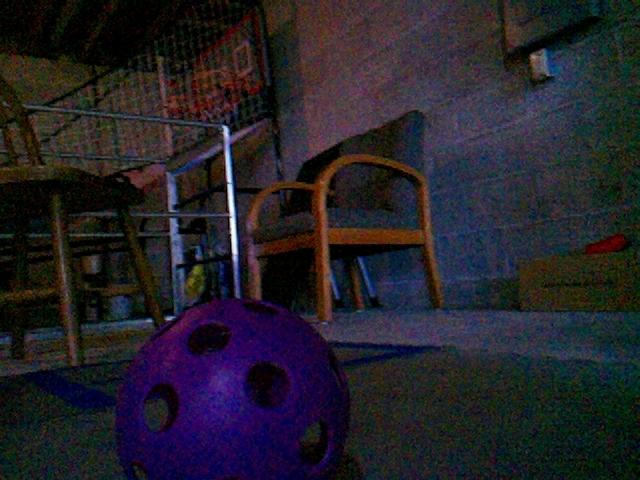Purple: (113, 296, 352, 479)
